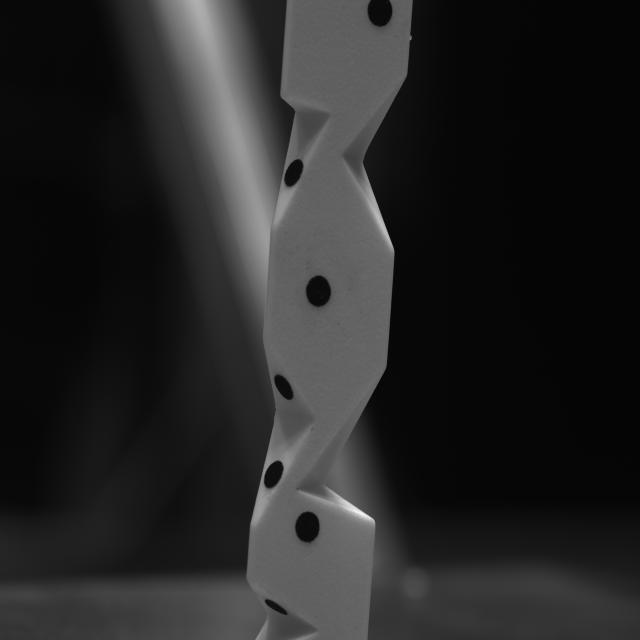circle point: (306, 276, 332, 308), (296, 511, 320, 544), (273, 374, 294, 402), (283, 158, 303, 187), (264, 460, 284, 489)
